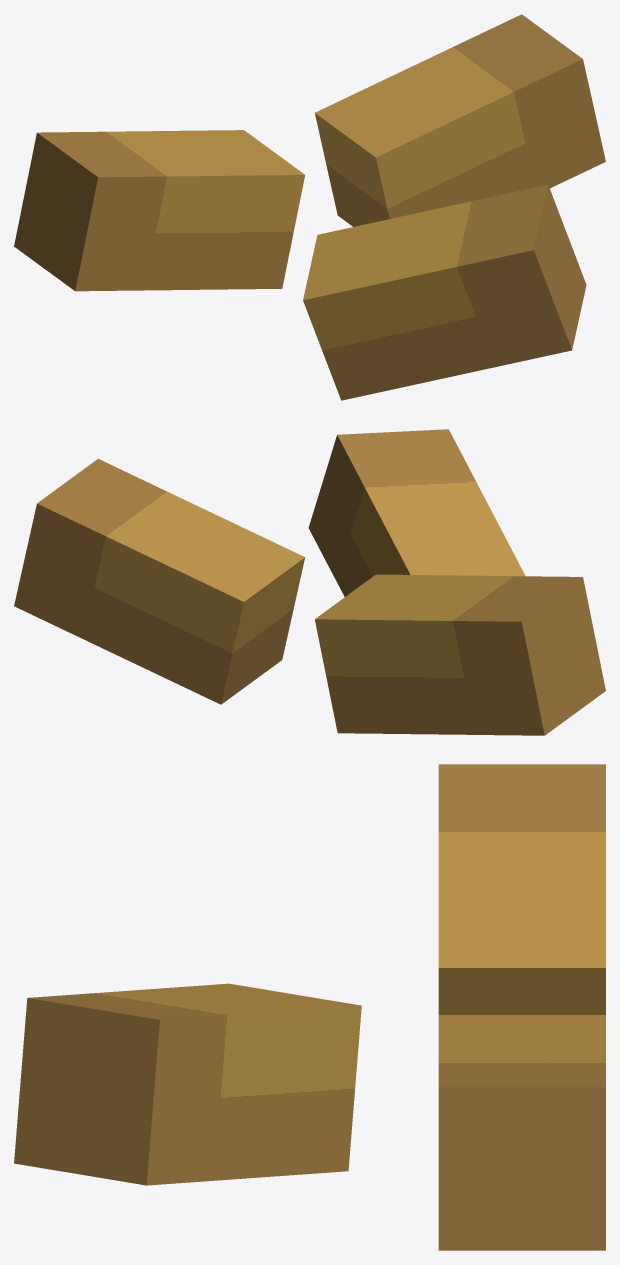
File: lettuce-seeds.gltf
3 renders of one model, top to bottom at view 1: azimuth 30°, elevation 25°; view 2: azimuth 150°, elevation 25°; view 3: azimuth 270°, elevation 25°, orthographic. The views are drawn at different scales.
Visible parts, largest first — view 1: cube; view 2: cube; view 3: cube.
Part boxes in pixels (x1,y1,x2,y2): cube: (14,14,605,400); cube: (14,429,605,735); cube: (14,764,605,1250).
Bounding box in the file's own units: 0.4692 × 0.1715 × 0.3319.
Materials: 1 (1 with a texture image).
